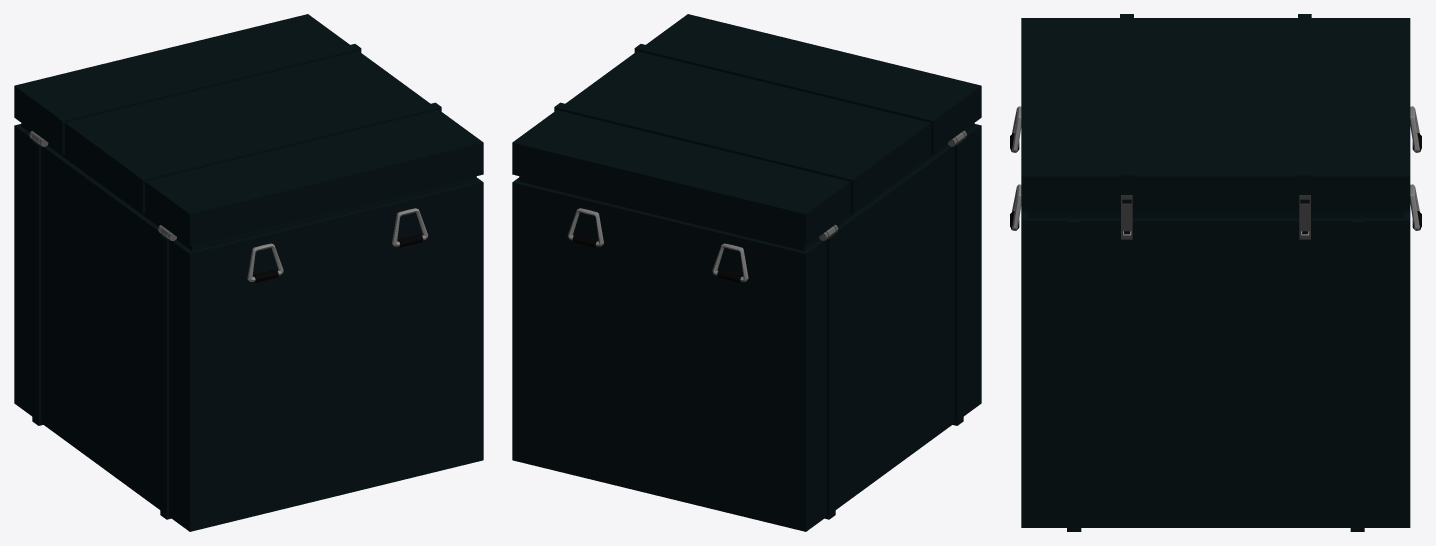
File: StorageCrate_014.glb
The picture shows the model from 3 angles, left to right: view 1: azimuth 30°, elevation 25°; view 2: azimuth 150°, elevation 25°; view 3: azimuth 270°, elevation 25°; orthographic projection. The views are drawn at different scales.
Visible parts, largest first — view 1: Mesh_StorageCrate_014; view 2: Mesh_StorageCrate_014; view 3: Mesh_StorageCrate_014.
Boxes of the visible parts, x1=… form: Mesh_StorageCrate_014: x1=14, y1=14, x2=483, y2=531; Mesh_StorageCrate_014: x1=512, y1=14, x2=981, y2=531; Mesh_StorageCrate_014: x1=1010, y1=14, x2=1421, y2=531.
Bounding box in the file's own units: 0.9989 × 1.01 × 1.06.
1 material, 1 textured.
